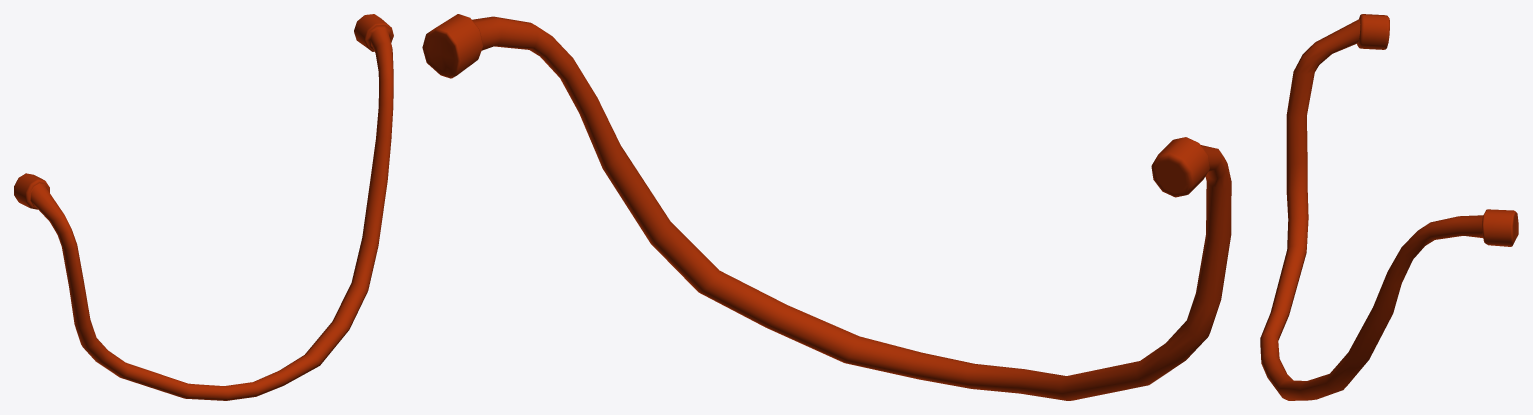
The model's file is Cable_02R.fbx.
3 views of the same model, side by side, from view 1: azimuth 30°, elevation 25°; view 2: azimuth 150°, elevation 25°; view 3: azimuth 270°, elevation 25° (orthographic). The views are drawn at different scales.
Visible parts, largest first — view 1: Cable_02R; view 2: Cable_02R; view 3: Cable_02R.
Part boxes in pixels (box(x1,y1,x2,y2)): Cable_02R: box(14, 14, 393, 400); Cable_02R: box(422, 14, 1231, 400); Cable_02R: box(1260, 14, 1518, 400).
Size of the model in its own units: 39.8 by 22.2 by 18.61.
